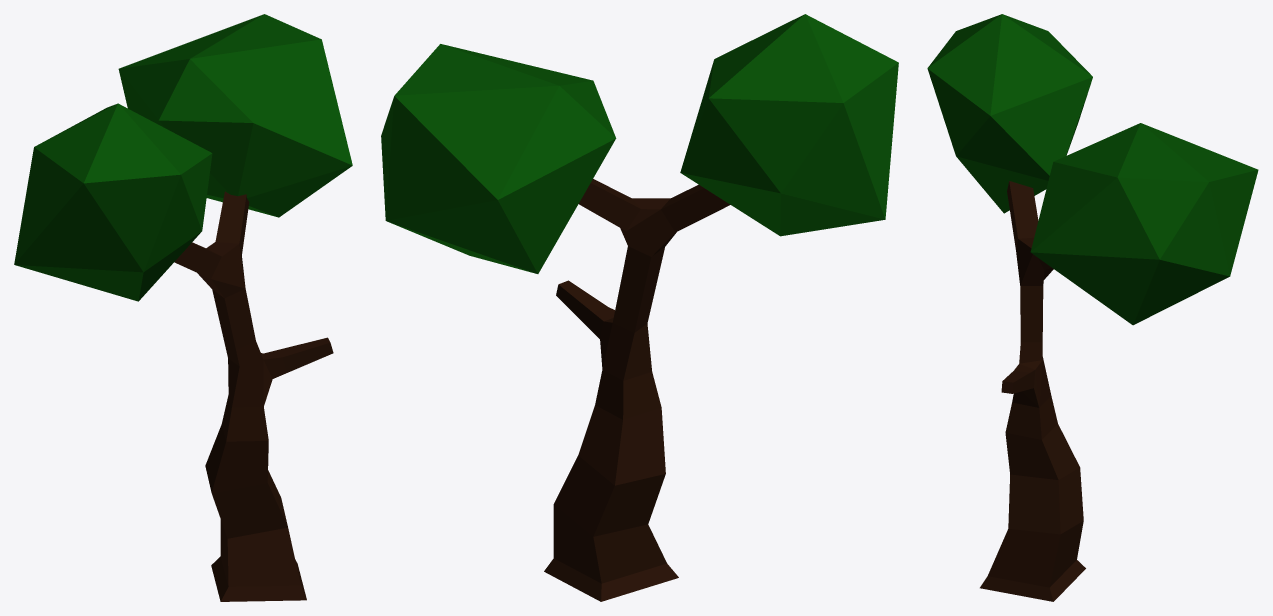
File: kleine boom.fbx
The picture shows the model from 3 angles, left to right: view 1: azimuth 30°, elevation 25°; view 2: azimuth 150°, elevation 25°; view 3: azimuth 270°, elevation 25°; orthographic projection. The views are drawn at different scales.
Parts seen in each view (by area): view 1: Cube; view 2: Cube; view 3: Cube.
Part boxes in pixels (x1,y1,x2,y2): Cube: (14, 14, 352, 601); Cube: (381, 14, 898, 601); Cube: (927, 14, 1258, 601).
Bounding box in the file's own units: 1.51 × 1.99 × 1.21.
